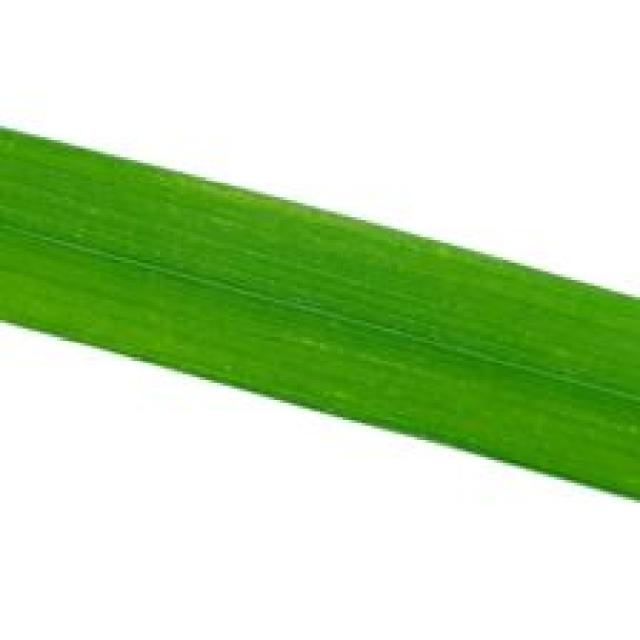Rice___Healthy_Rice_Plant: (0, 125, 637, 506)
